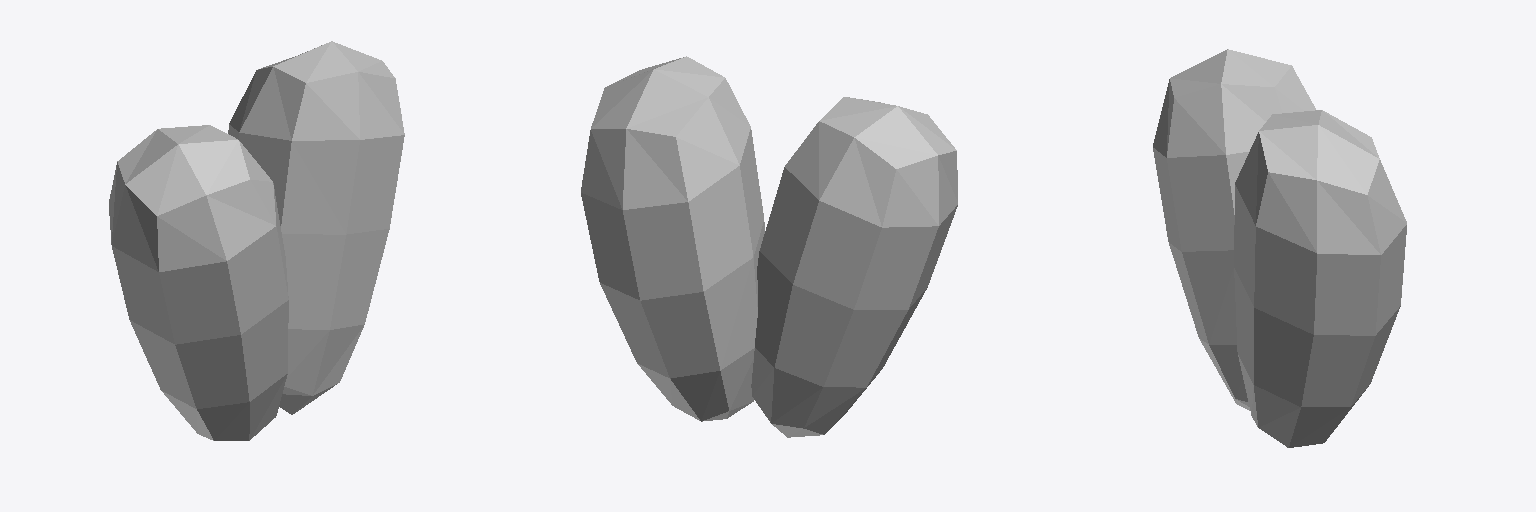
File: dry_grass2.obj
3 renders of one model, left to right at view 1: azimuth 30°, elevation 25°; view 2: azimuth 150°, elevation 25°; view 3: azimuth 270°, elevation 25°, orthographic.
Parts seen in each view (by area): view 1: dry_grass2; view 2: dry_grass2; view 3: dry_grass2.
Boxes of the visible parts, x1=… form: dry_grass2: x1=109, y1=41, x2=404, y2=440; dry_grass2: x1=581, y1=56, x2=957, y2=437; dry_grass2: x1=1153, y1=49, x2=1406, y2=447.
Bounding box in the file's own units: 1.22 × 1.31 × 0.8511.